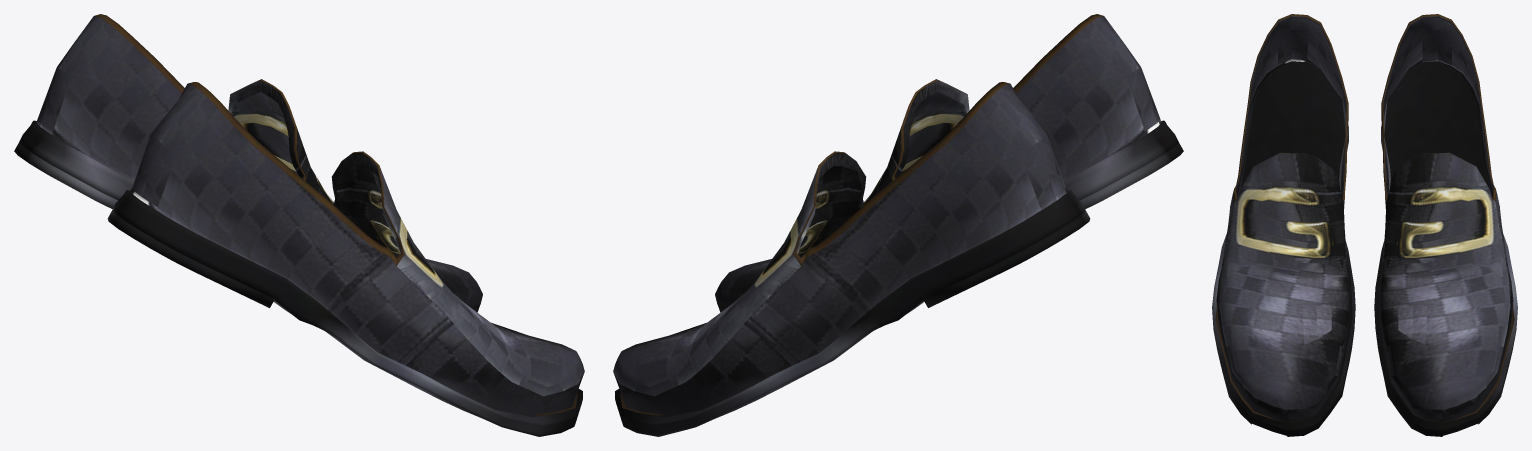
File: src_loafers_school.glb
3 views of the same model, side by side, from view 1: azimuth 30°, elevation 25°; view 2: azimuth 150°, elevation 25°; view 3: azimuth 270°, elevation 25° (orthographic). The views are drawn at different scales.
Parts seen in each view (by area): view 1: Plane.039; view 2: Plane.039; view 3: Plane.039.
Part boxes in pixels (<box>): Plane.039: <box>14,14,584,436</box>; Plane.039: <box>613,14,1183,436</box>; Plane.039: <box>1212,14,1517,436</box>.
Size of what is drawn, in the model's own units: 35.57 by 29.72 by 28.26.
1 material, 1 textured.
